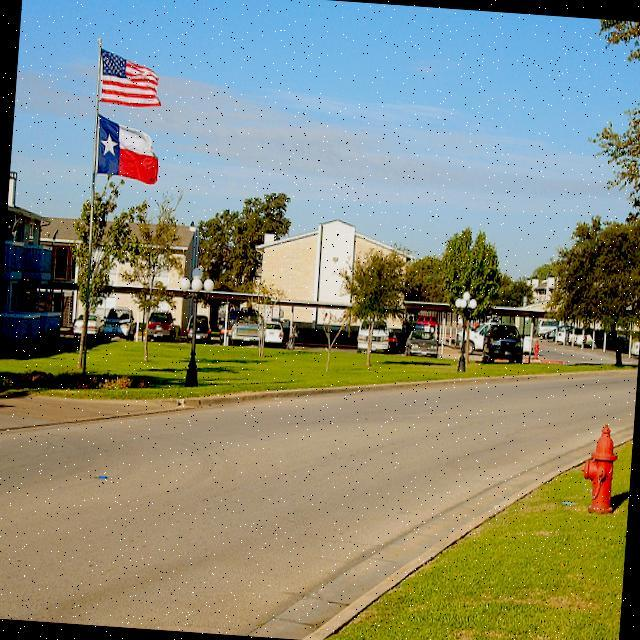fire_hydrant: (578, 422, 618, 512), (532, 340, 539, 358)
